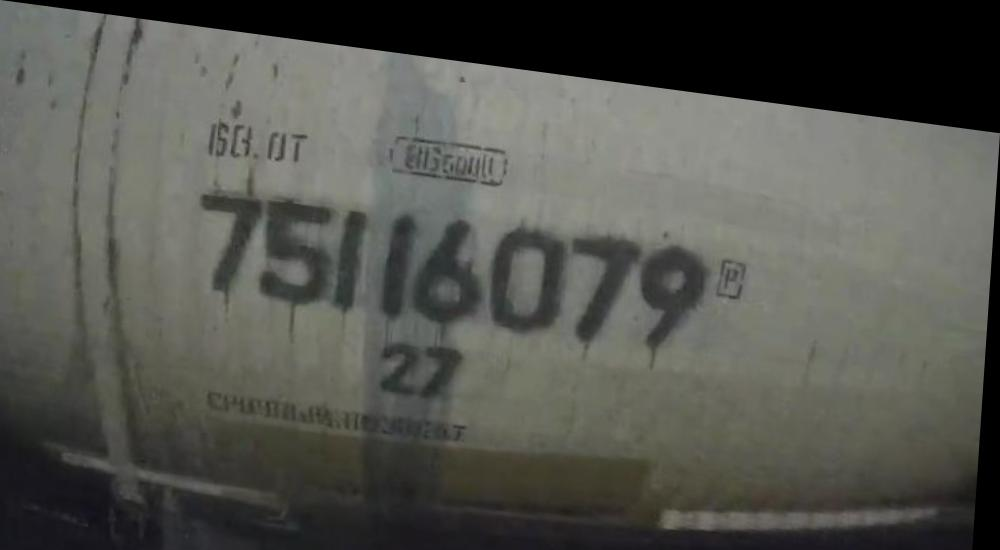Wagon-number: (196, 174, 719, 344)
